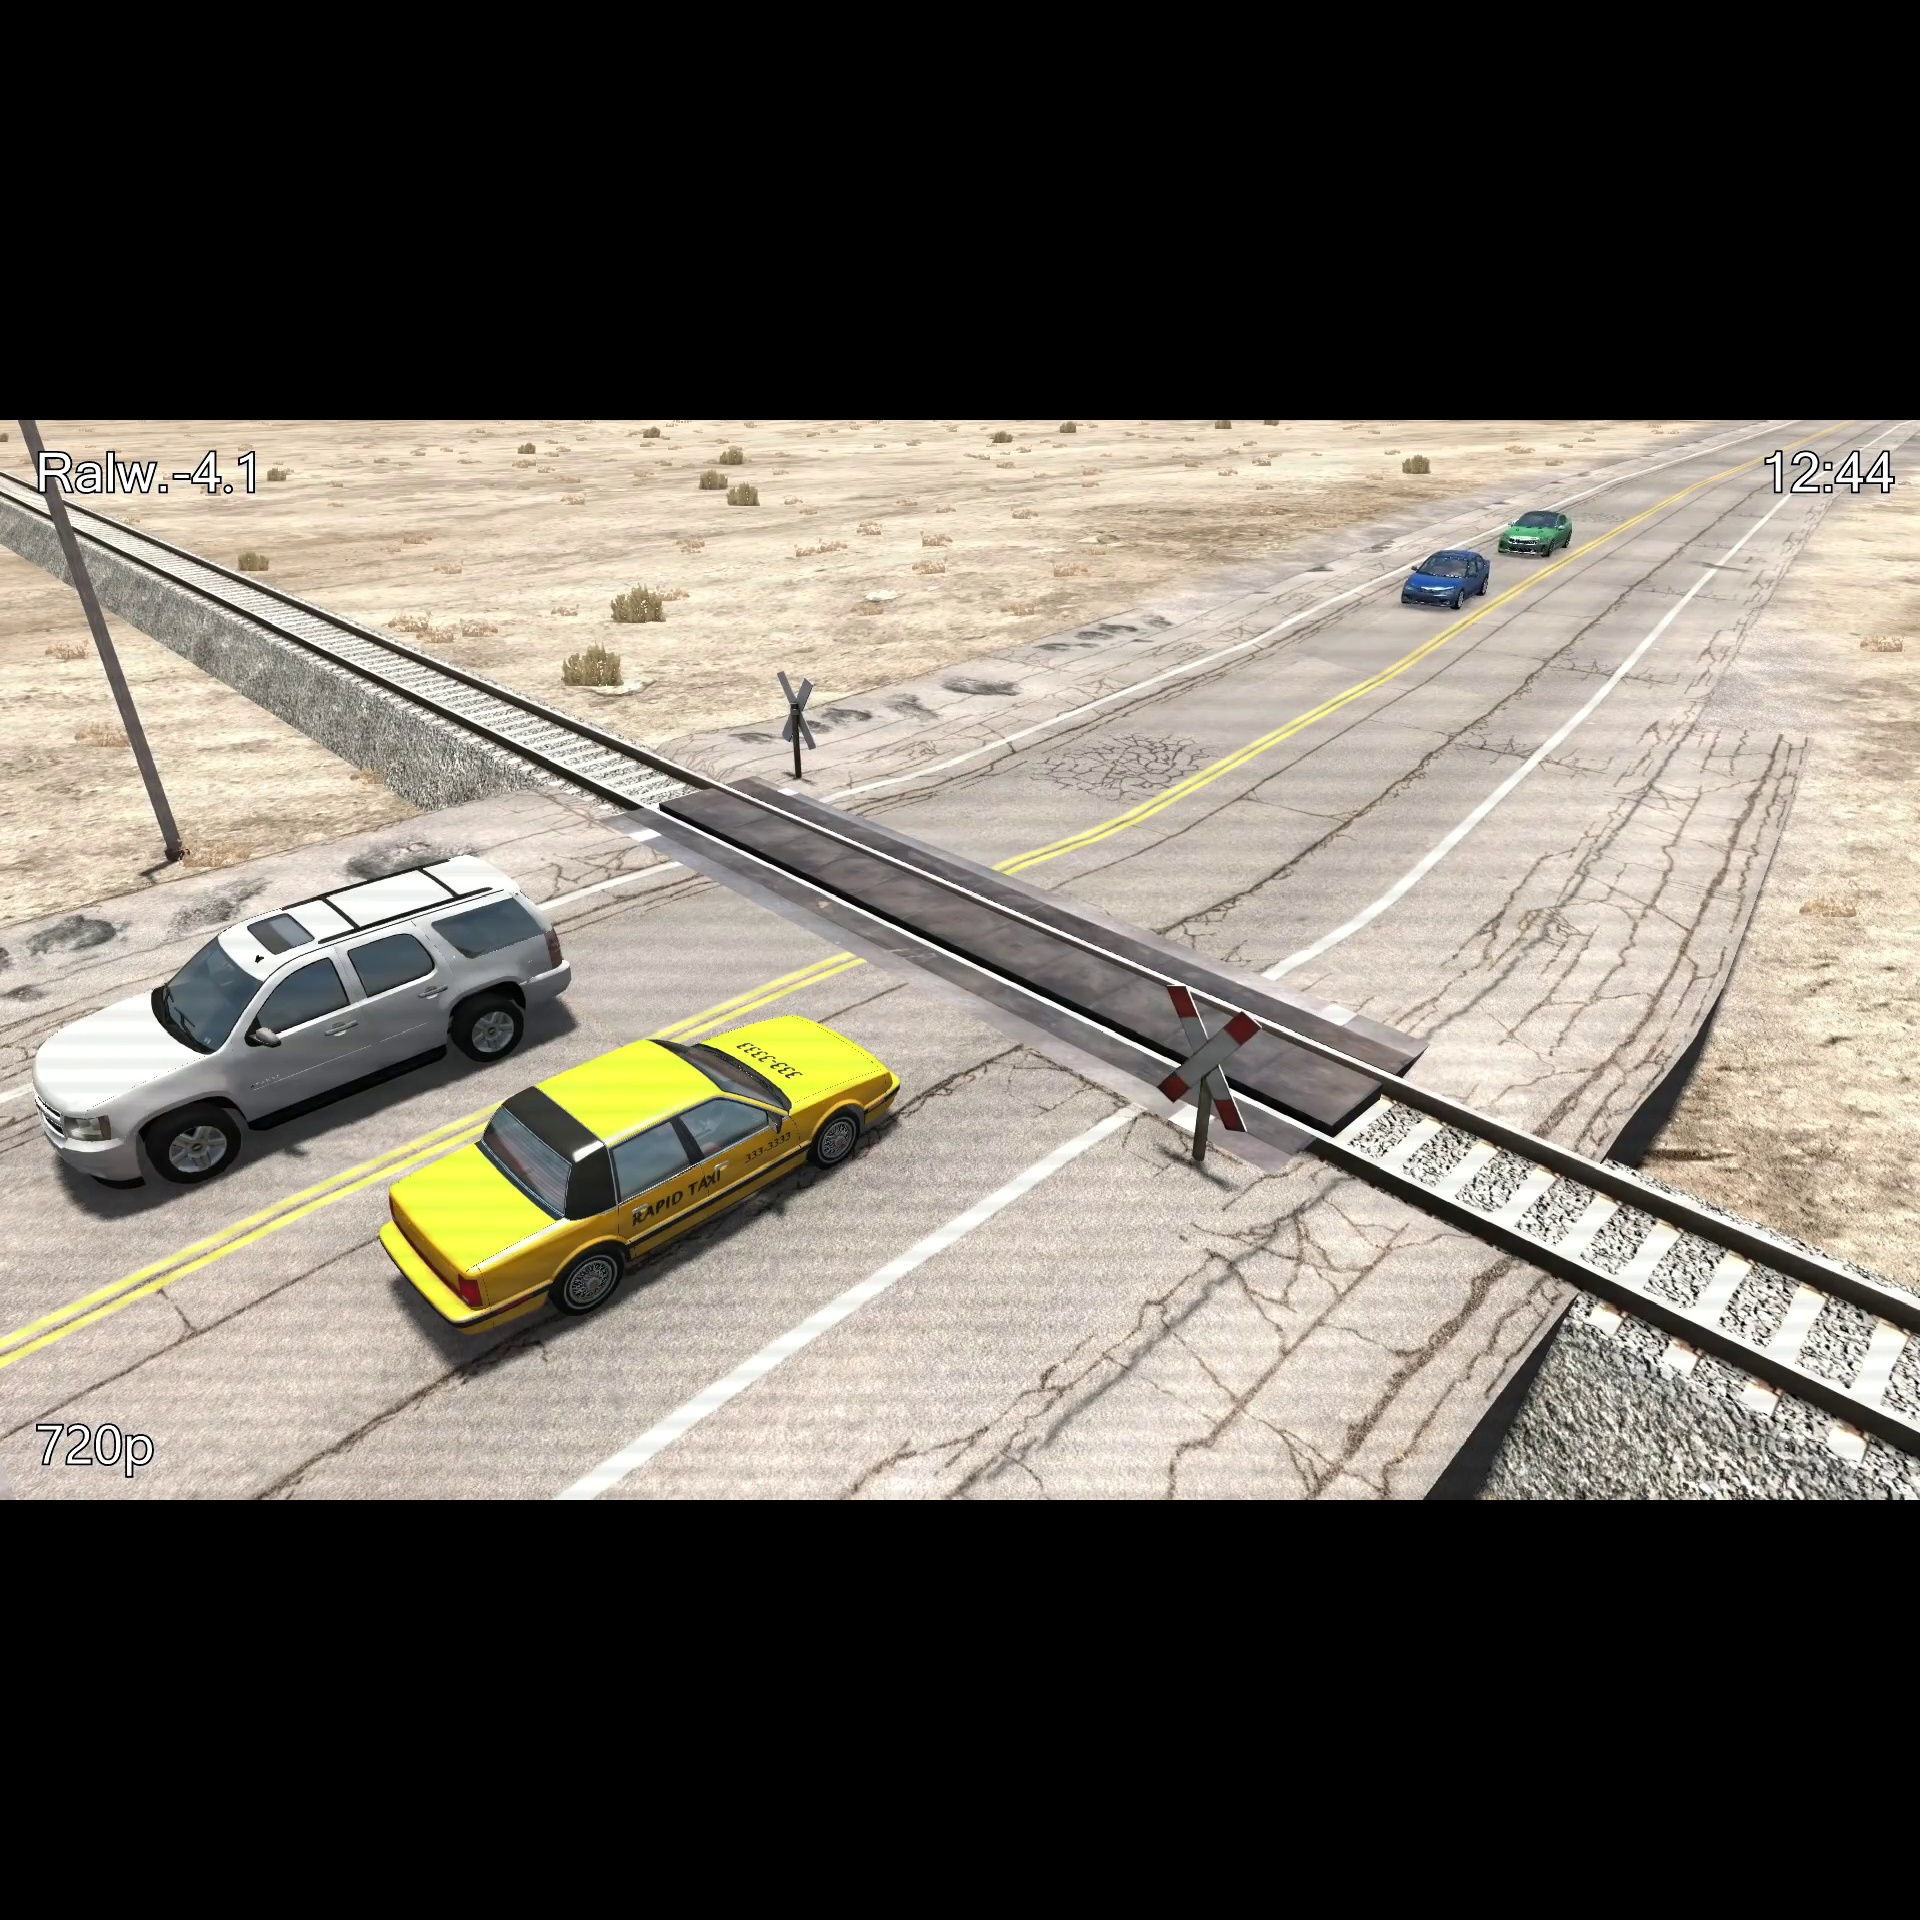vehicle: (23, 846, 578, 1210), (367, 1007, 914, 1350), (1393, 545, 1496, 617), (1493, 506, 1575, 563)
